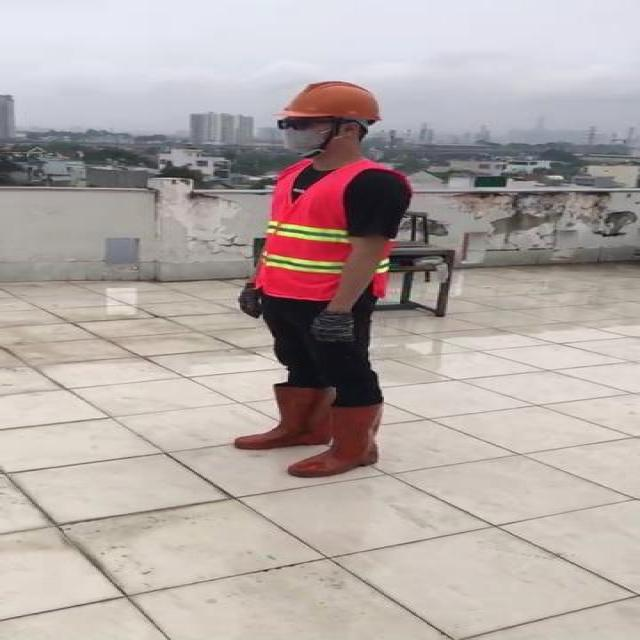boots: (285, 399, 392, 479), (226, 381, 332, 449)
face_mask: (277, 114, 338, 160)
glasses: (270, 114, 327, 134)
hand_glove: (306, 307, 362, 346), (238, 285, 262, 319)
head_helmet: (282, 78, 386, 119)
person: (233, 76, 425, 484)
vest: (258, 161, 414, 297)
